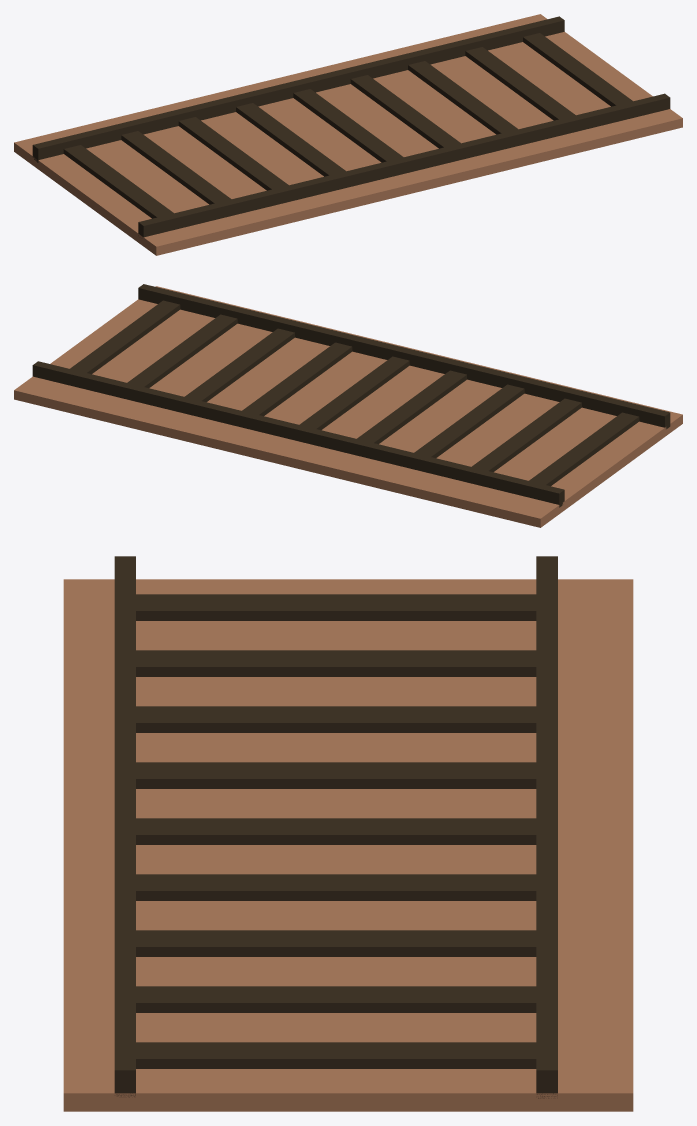
Rendered from RailTrackTile_1.fbx.
3 views of the same model, one above another, from view 1: azimuth 30°, elevation 25°; view 2: azimuth 150°, elevation 25°; view 3: azimuth 270°, elevation 25° (orthographic). The views are drawn at different scales.
Parts seen in each view (by area): view 1: RailTrackTile_1; view 2: RailTrackTile_1; view 3: RailTrackTile_1.
Part boxes in pixels (box(x1,y1,x2,y2)): RailTrackTile_1: box(14, 14, 682, 255); RailTrackTile_1: box(14, 284, 682, 527); RailTrackTile_1: box(63, 556, 633, 1111).
Bounding box in the file's own units: 600 × 22.41 × 281.
